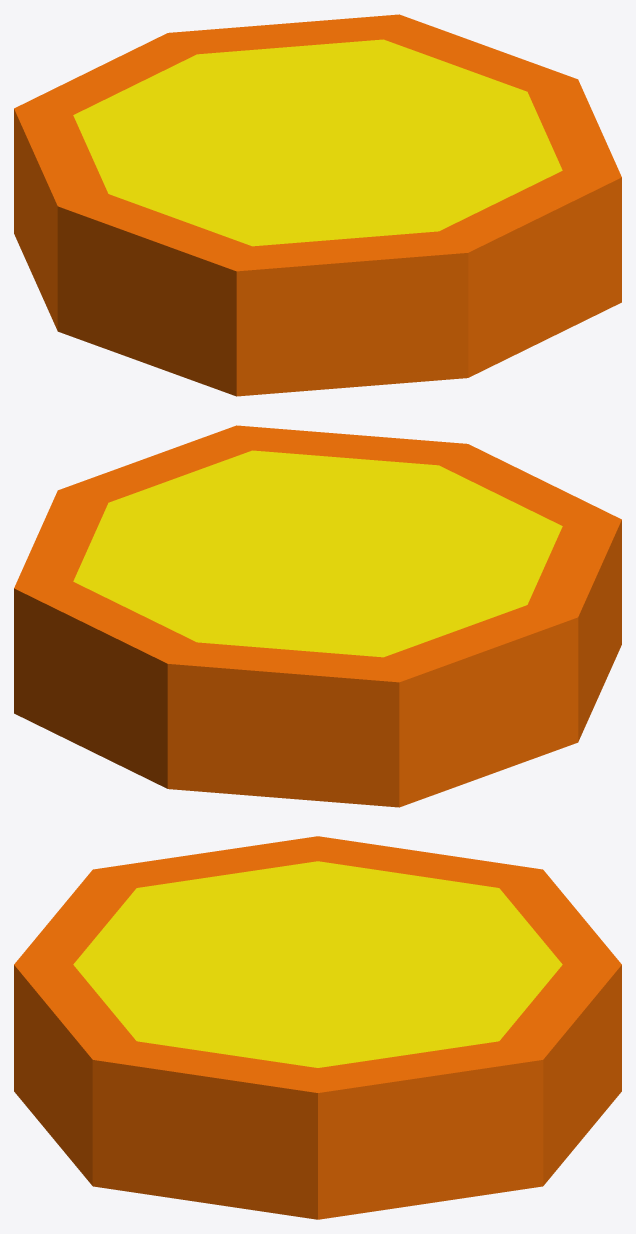
File: Coin 01.FBX
3 renders of one model, top to bottom at view 1: azimuth 30°, elevation 25°; view 2: azimuth 150°, elevation 25°; view 3: azimuth 270°, elevation 25°, orthographic.
Parts seen in each view (by area): view 1: Coin 01; view 2: Coin 01; view 3: Coin 01.
Boxes of the visible parts, x1,y1,x2,y2 form: Coin 01: [14, 14, 621, 396]; Coin 01: [14, 425, 621, 807]; Coin 01: [14, 836, 621, 1219].
Size of the model in its own units: 24.49 by 5.63 by 24.49.
